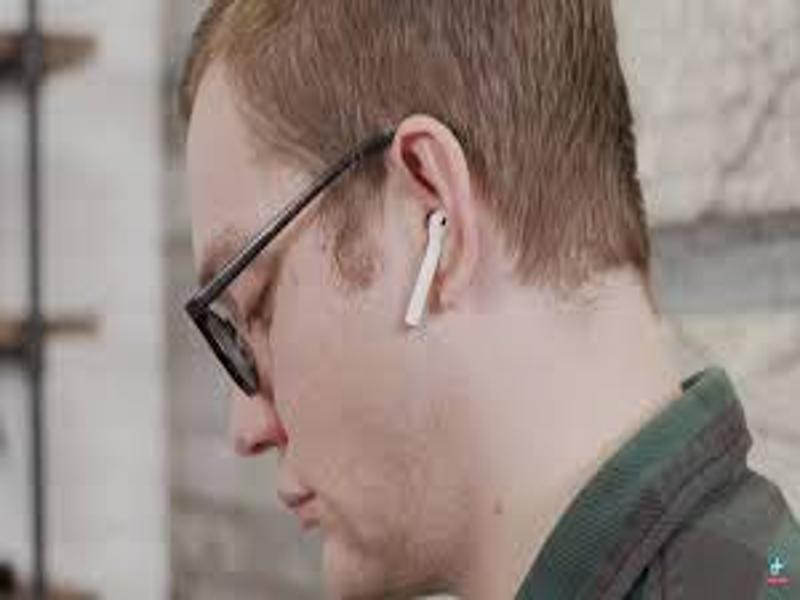headphone: (404, 209, 453, 326)
